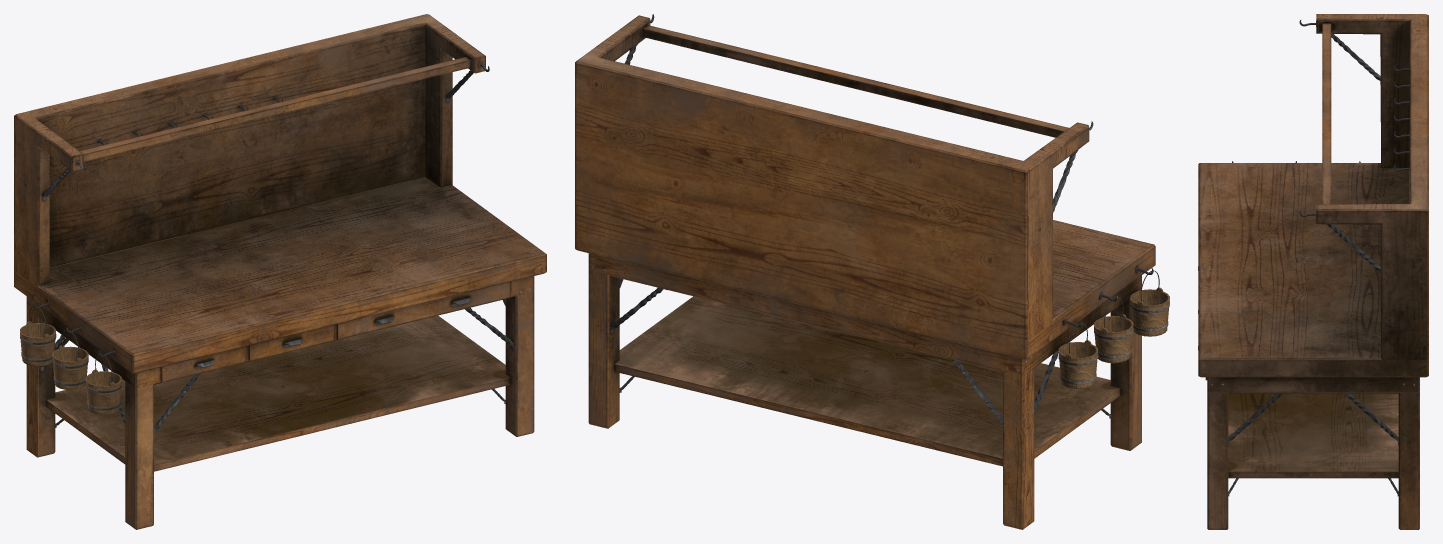
Rendered from workbench.glb.
The picture shows the model from 3 angles, left to right: view 1: azimuth 30°, elevation 25°; view 2: azimuth 150°, elevation 25°; view 3: azimuth 270°, elevation 25°; orthographic projection. The views are drawn at different scales.
Parts seen in each view (by area): view 1: workbench; view 2: workbench; view 3: workbench.
Boxes of the visible parts, box(x1,y1,x2,y2) form: workbench: box(14, 14, 546, 529); workbench: box(575, 14, 1169, 529); workbench: box(1198, 14, 1428, 529).
Bounding box in the file's own units: 1 × 0.7229 × 0.4659.
1 material, 1 textured.
